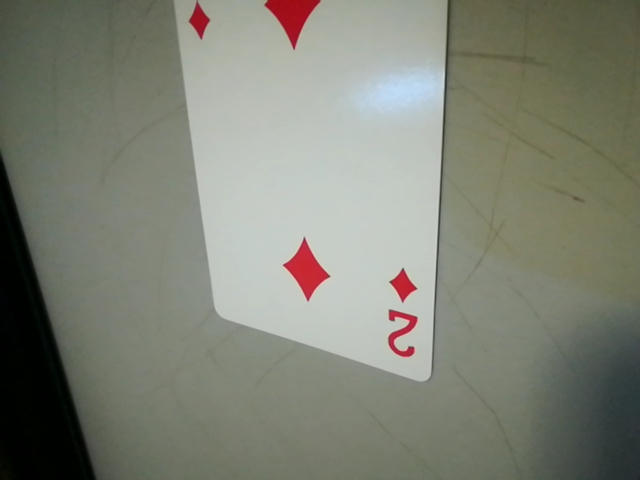fk 2: (372, 261, 433, 371)
